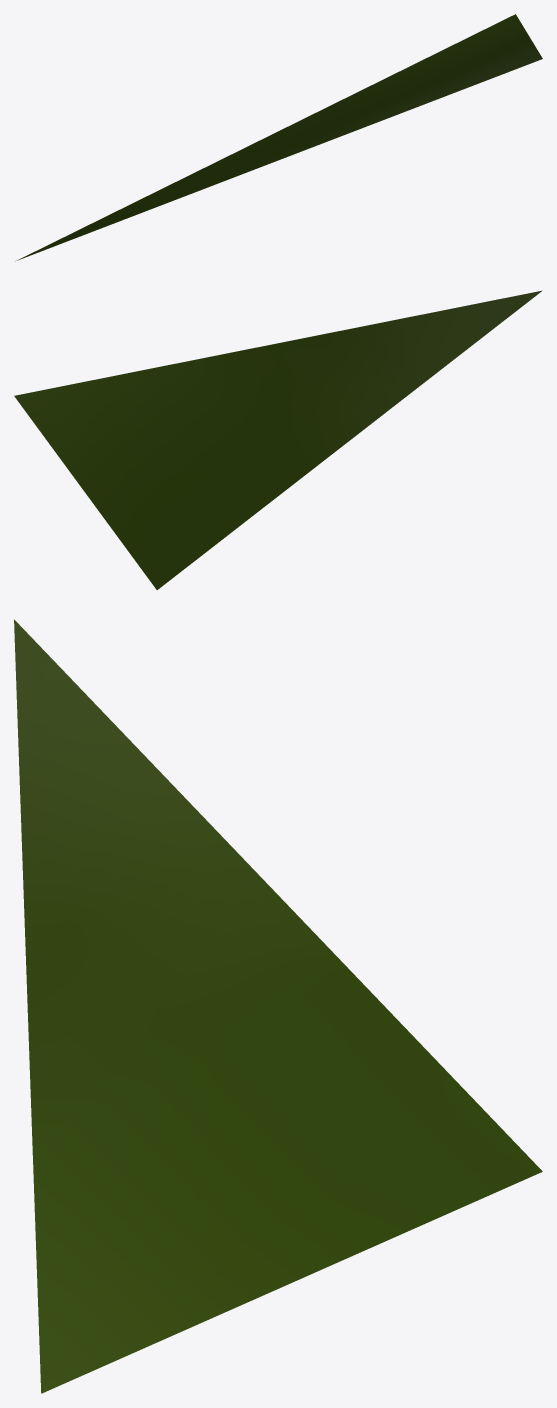
3 renders of one model, top to bottom at view 1: azimuth 90°, elevation 25°; view 2: azimuth 150°, elevation 25°; view 3: azimuth 270°, elevation 25°, orthographic. The views are drawn at different scales.
Bounding box in the file's own units: 0.0164 × 0.00707 × 0.00897.
Materials: 1 (1 with a texture image).
